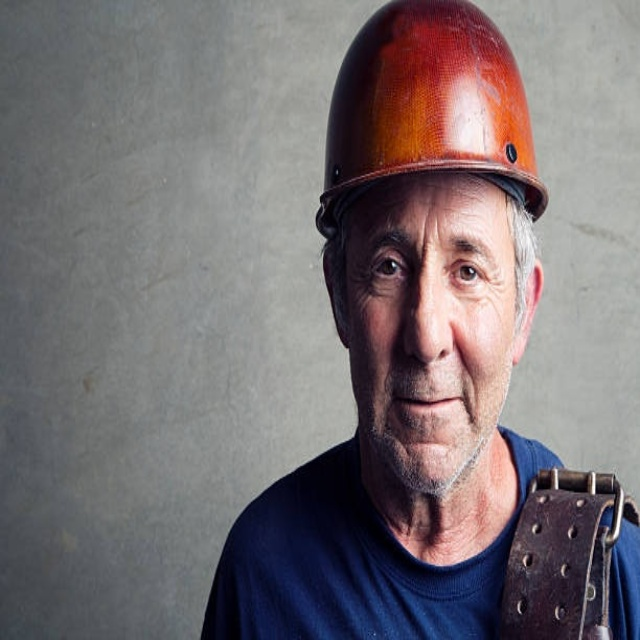Sin_gafas: (359, 226, 498, 315)
Sin_mascara: (373, 362, 479, 477)
